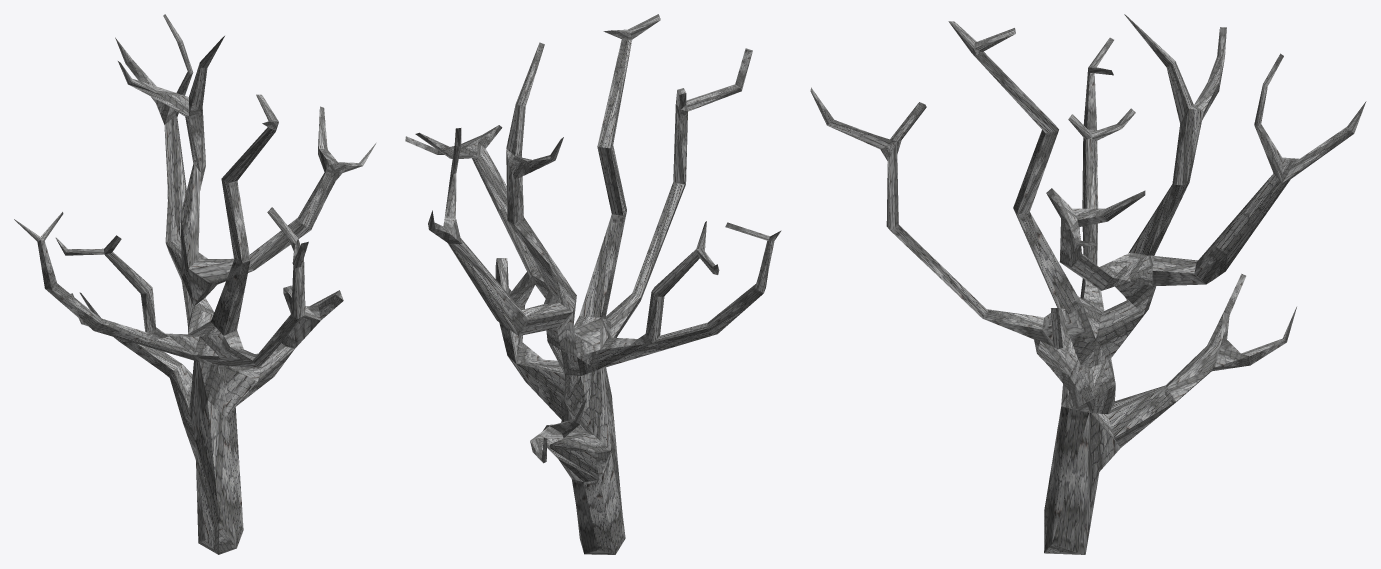
File: tree01.fbx
3 views of the same model, side by side, from view 1: azimuth 30°, elevation 25°; view 2: azimuth 150°, elevation 25°; view 3: azimuth 270°, elevation 25° (orthographic). The views are drawn at different scales.
Parts seen in each view (by area): view 1: Cube; view 2: Cube; view 3: Cube.
Part boxes in pixels (x1,y1,x2,y2): Cube: (14, 14, 375, 554); Cube: (405, 14, 781, 554); Cube: (810, 14, 1366, 554).
Bounding box in the file's own units: 226 × 295 × 267.
